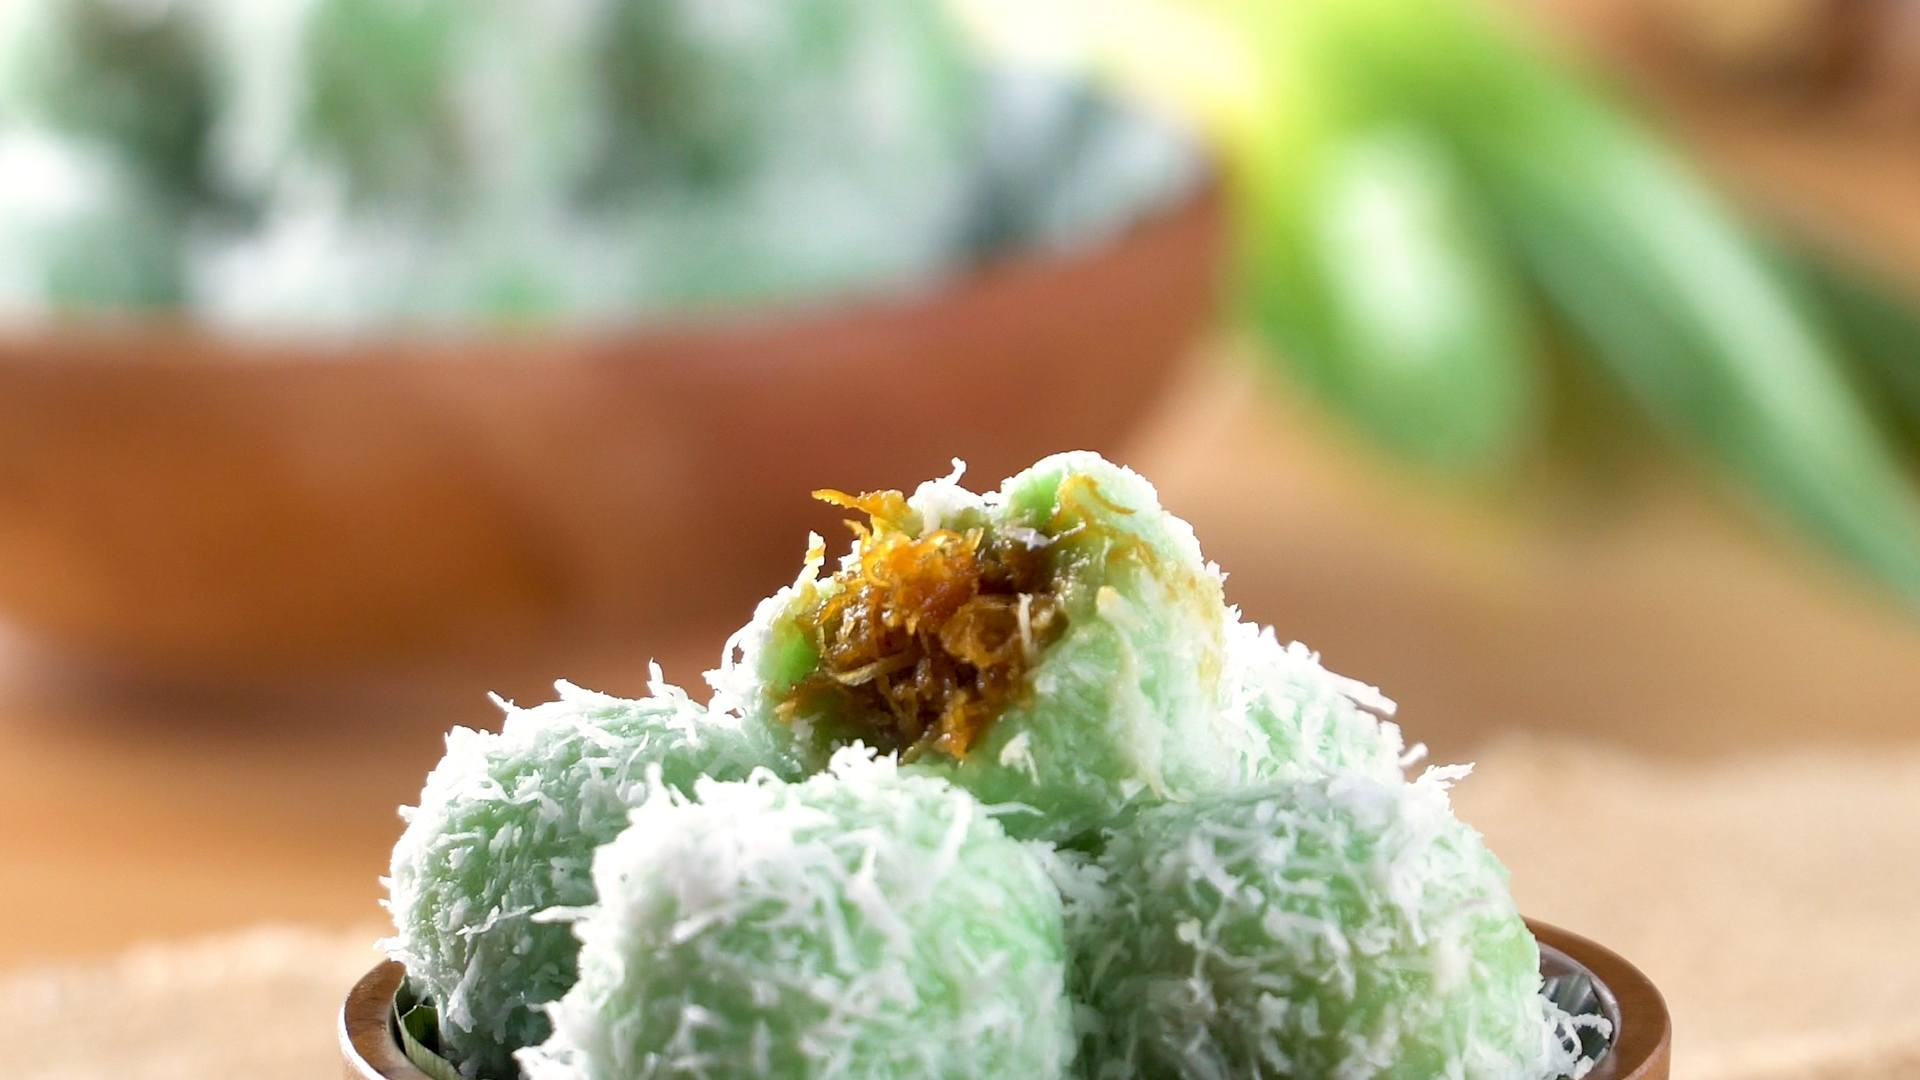klepon: (688, 448, 1236, 824)
